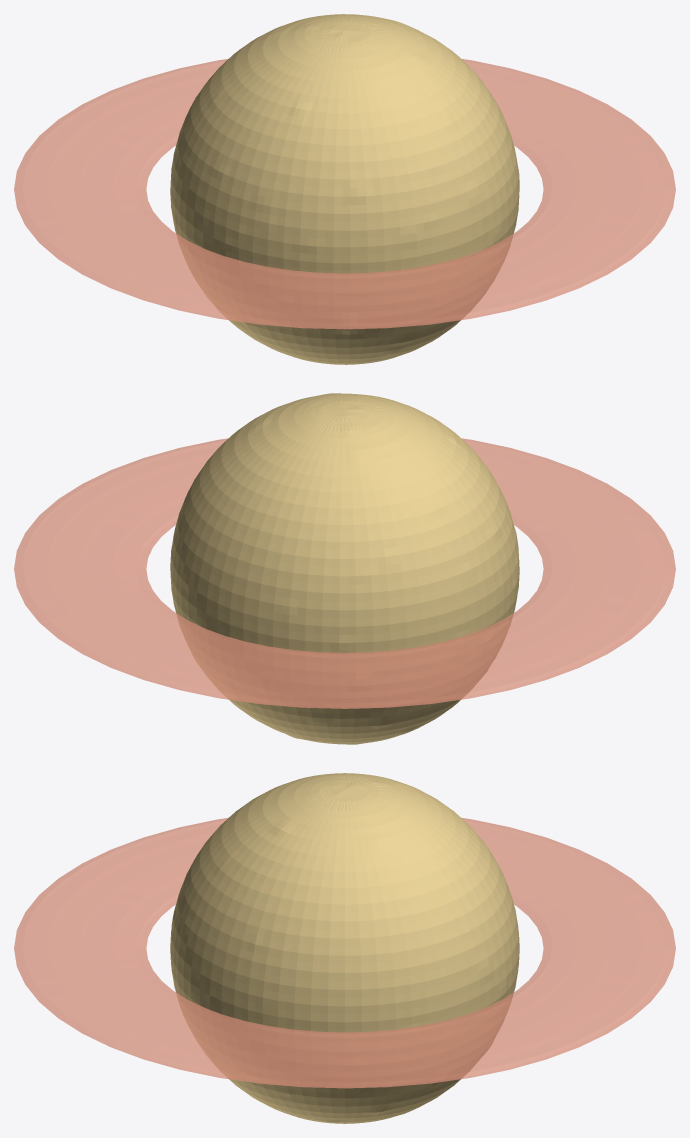
The model's file is ring_planet.fbx.
The picture shows the model from 3 angles, top to bottom: view 1: azimuth 30°, elevation 25°; view 2: azimuth 150°, elevation 25°; view 3: azimuth 270°, elevation 25°; orthographic projection.
Parts seen in each view (by area): view 1: Sphere, Torus; view 2: Sphere, Torus; view 3: Sphere, Torus.
Boxes of the visible parts, x1,y1,x2,y2 form: Sphere: [170, 14, 519, 364]; Torus: [14, 59, 675, 329]; Sphere: [170, 393, 519, 744]; Torus: [14, 438, 675, 708]; Sphere: [170, 773, 519, 1123]; Torus: [14, 818, 675, 1088].
Size of the model in its own units: 3750 by 1988 by 3750.
